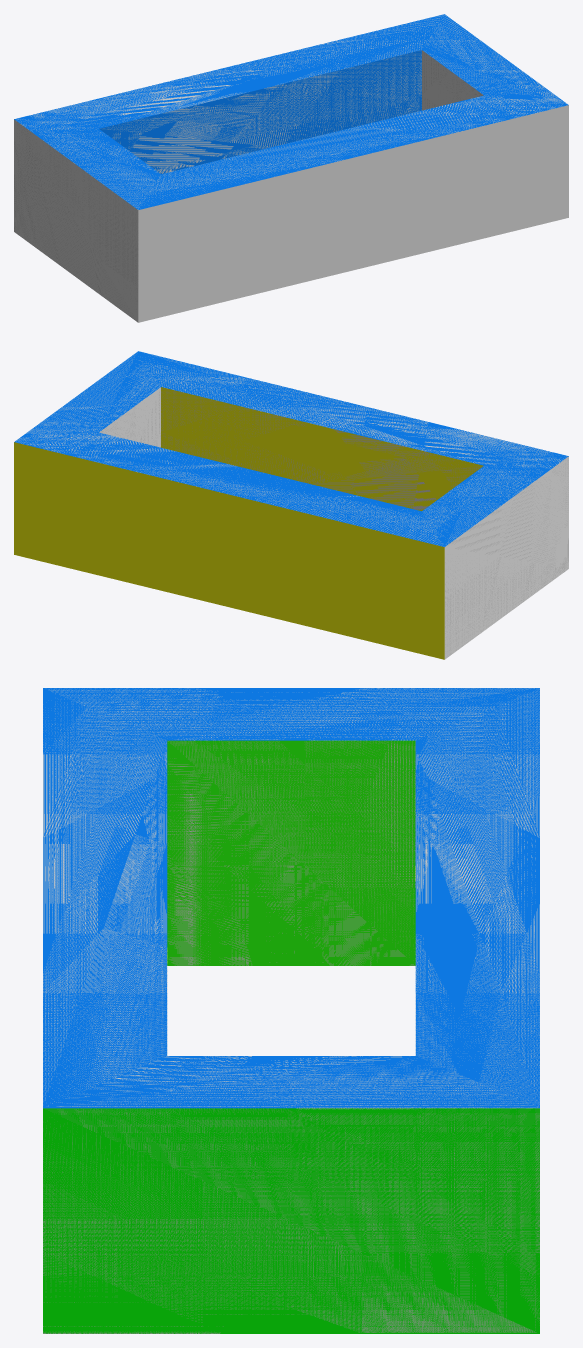
File: Figura12.dae
The picture shows the model from 3 angles, top to bottom: view 1: azimuth 30°, elevation 25°; view 2: azimuth 150°, elevation 25°; view 3: azimuth 270°, elevation 25°; orthographic projection. The views are drawn at different scales.
Visible parts, largest first — view 1: SketchUp (×5); view 2: SketchUp (×5); view 3: SketchUp (×3).
Boxes of the visible parts, x1,y1,x2,y2 form: SketchUp (×5): (14, 14, 568, 322); SketchUp (×5): (14, 351, 568, 659); SketchUp (×3): (43, 688, 539, 1333).
Bounding box in the file's own units: 31.5 × 15.75 × 7.87.
